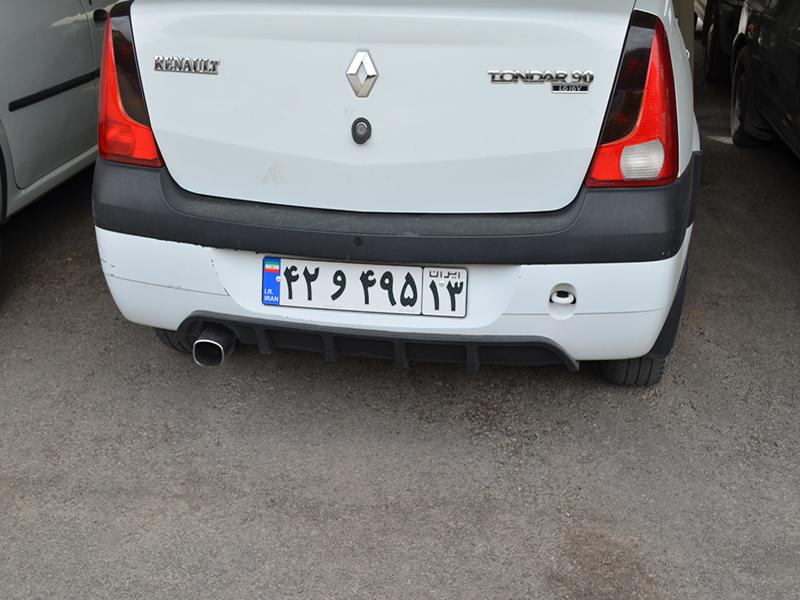Plate: (251, 248, 474, 321)
